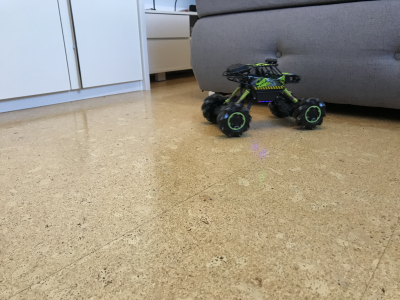remote control car: (194, 56, 328, 140)
